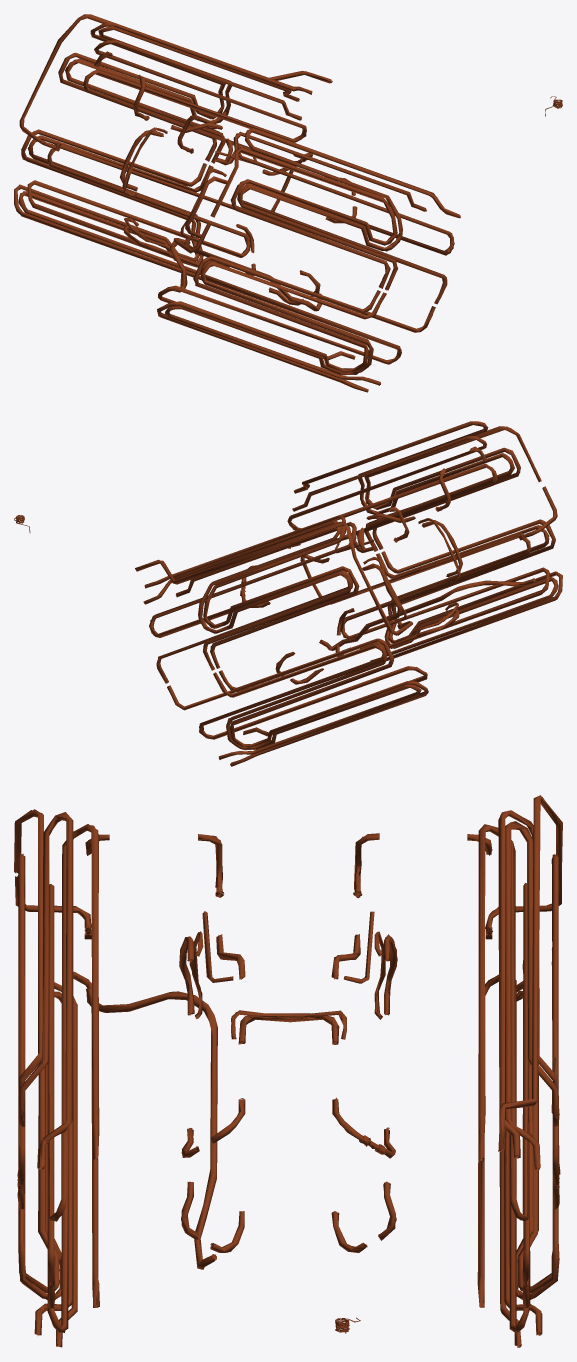
3 views of the same model, one above another, from view 1: azimuth 30°, elevation 25°; view 2: azimuth 150°, elevation 25°; view 3: azimuth 270°, elevation 25° (orthographic). The views are drawn at different scales.
Visible parts, largest first — view 1: node; view 2: node; view 3: node.
Boxes of the visible parts, x1,y1,x2,y2 form: node: (14, 14, 562, 392); node: (14, 421, 562, 766); node: (14, 795, 562, 1347).
Size of the model in its own units: 1.32 by 0.8259 by 0.7573.
